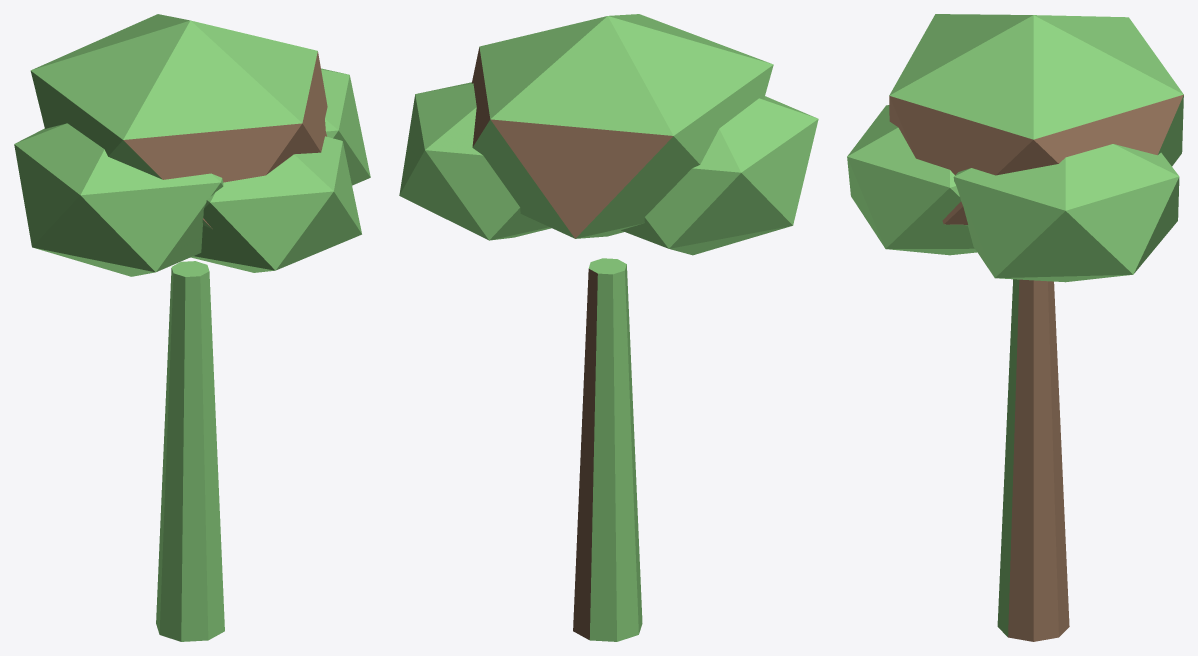
File: TREE-oak-00.glb
3 views of the same model, side by side, from view 1: azimuth 30°, elevation 25°; view 2: azimuth 150°, elevation 25°; view 3: azimuth 270°, elevation 25° (orthographic).
Parts seen in each view (by area): view 1: TREE-oak-00; view 2: TREE-oak-00; view 3: TREE-oak-00.
Boxes of the visible parts, <box> form: TREE-oak-00: <box>14,14,370,641</box>; TREE-oak-00: <box>399,14,818,641</box>; TREE-oak-00: <box>847,14,1183,641</box>.
Bounding box in the file's own units: 3.14 × 5.25 × 2.62.
